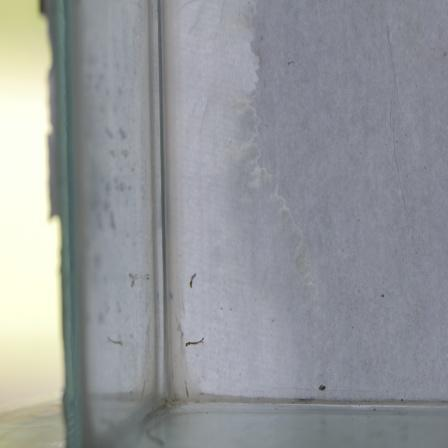Jentik-Nyamuk: (179, 333, 207, 351)
